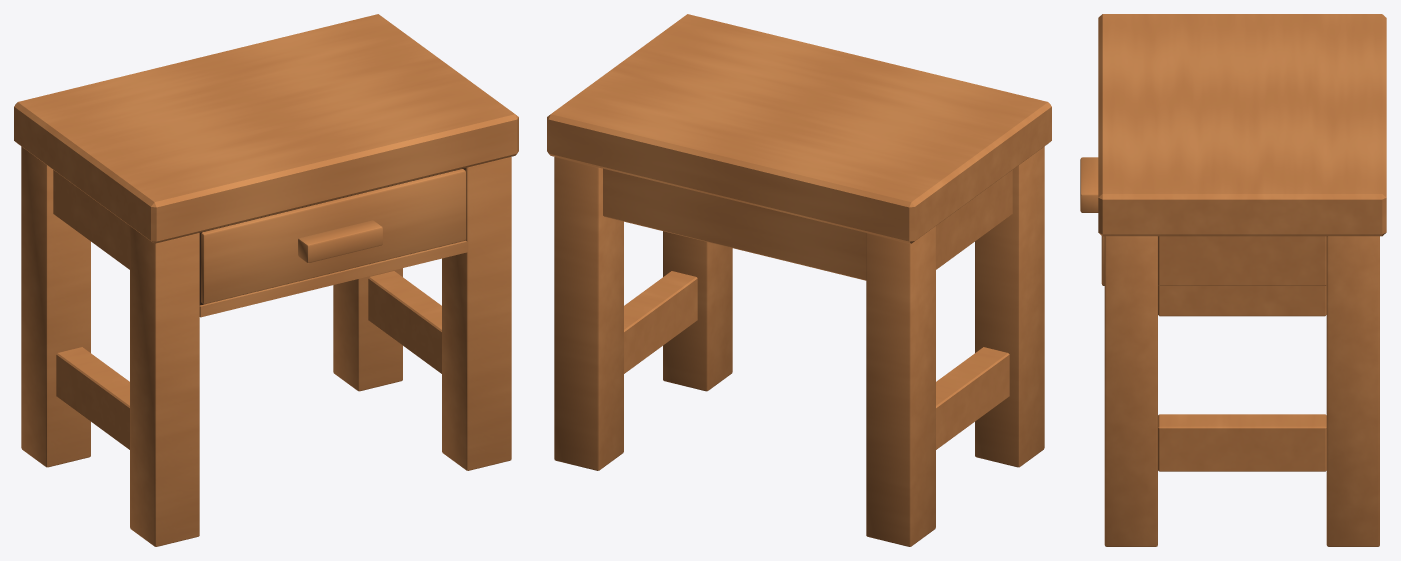
File: nightstand-master.glb
3 renders of one model, left to right at view 1: azimuth 30°, elevation 25°; view 2: azimuth 150°, elevation 25°; view 3: azimuth 270°, elevation 25°, orthographic. The views are drawn at different scales.
Visible parts, largest first — view 1: TopSlab, Leg_LF, Leg_RF, Drawer_Face, Leg_LB, Leg_RB, Stretcher_R, Stretcher_L, Apron_L, Rail_Bot, Knob; view 2: TopSlab, Leg_LB, Leg_RB, Leg_LF, Apron_B, Leg_RF, Stretcher_R, Stretcher_L, Apron_L; view 3: TopSlab, Leg_RB, Leg_RF, Stretcher_R, Apron_R, Stretcher_L, Knob.
Boxes of the visible parts, x1,y1,x2,y2 form: TopSlab: (14, 14, 518, 243); Leg_LF: (130, 226, 199, 546); Leg_RF: (442, 157, 511, 470); Drawer_Face: (201, 169, 465, 304); Leg_LB: (21, 146, 90, 467); Leg_RB: (333, 268, 402, 391); Stretcher_R: (368, 271, 441, 373); Stretcher_L: (56, 347, 129, 449); Apron_L: (53, 170, 129, 269); Rail_Bot: (199, 240, 467, 317); Knob: (298, 220, 382, 263); TopSlab: (547, 14, 1051, 243); Leg_LB: (866, 226, 935, 546); Leg_RB: (554, 157, 623, 470); Leg_LF: (975, 146, 1044, 467); Apron_B: (603, 168, 866, 280); Leg_RF: (663, 231, 732, 391); Stretcher_R: (624, 271, 697, 373); Stretcher_L: (936, 347, 1009, 449); Apron_L: (936, 170, 1012, 269); TopSlab: (1098, 14, 1386, 236); Leg_RB: (1326, 236, 1379, 546); Leg_RF: (1104, 236, 1157, 546); Stretcher_R: (1158, 414, 1326, 471); Apron_R: (1158, 236, 1326, 285); Stretcher_L: (1158, 285, 1326, 316); Knob: (1080, 157, 1098, 212).
Bounding box in the file's own units: 0.61 × 0.55 × 0.43.
1 material, 1 textured.
